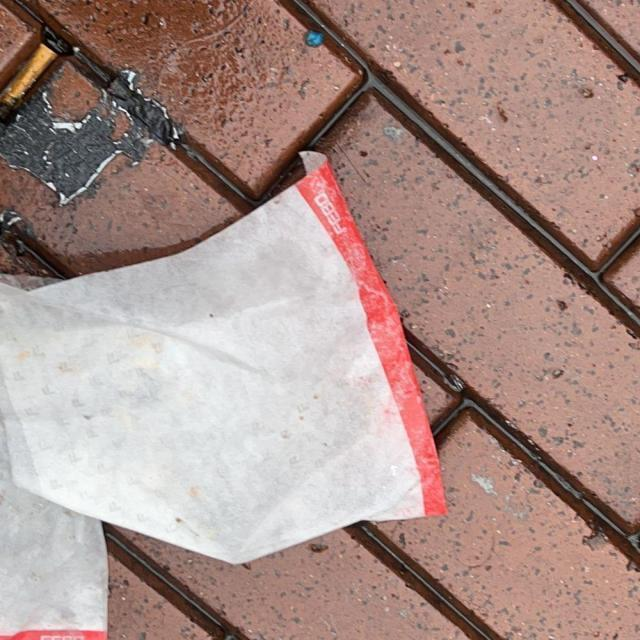Paper: (0, 147, 450, 636)
